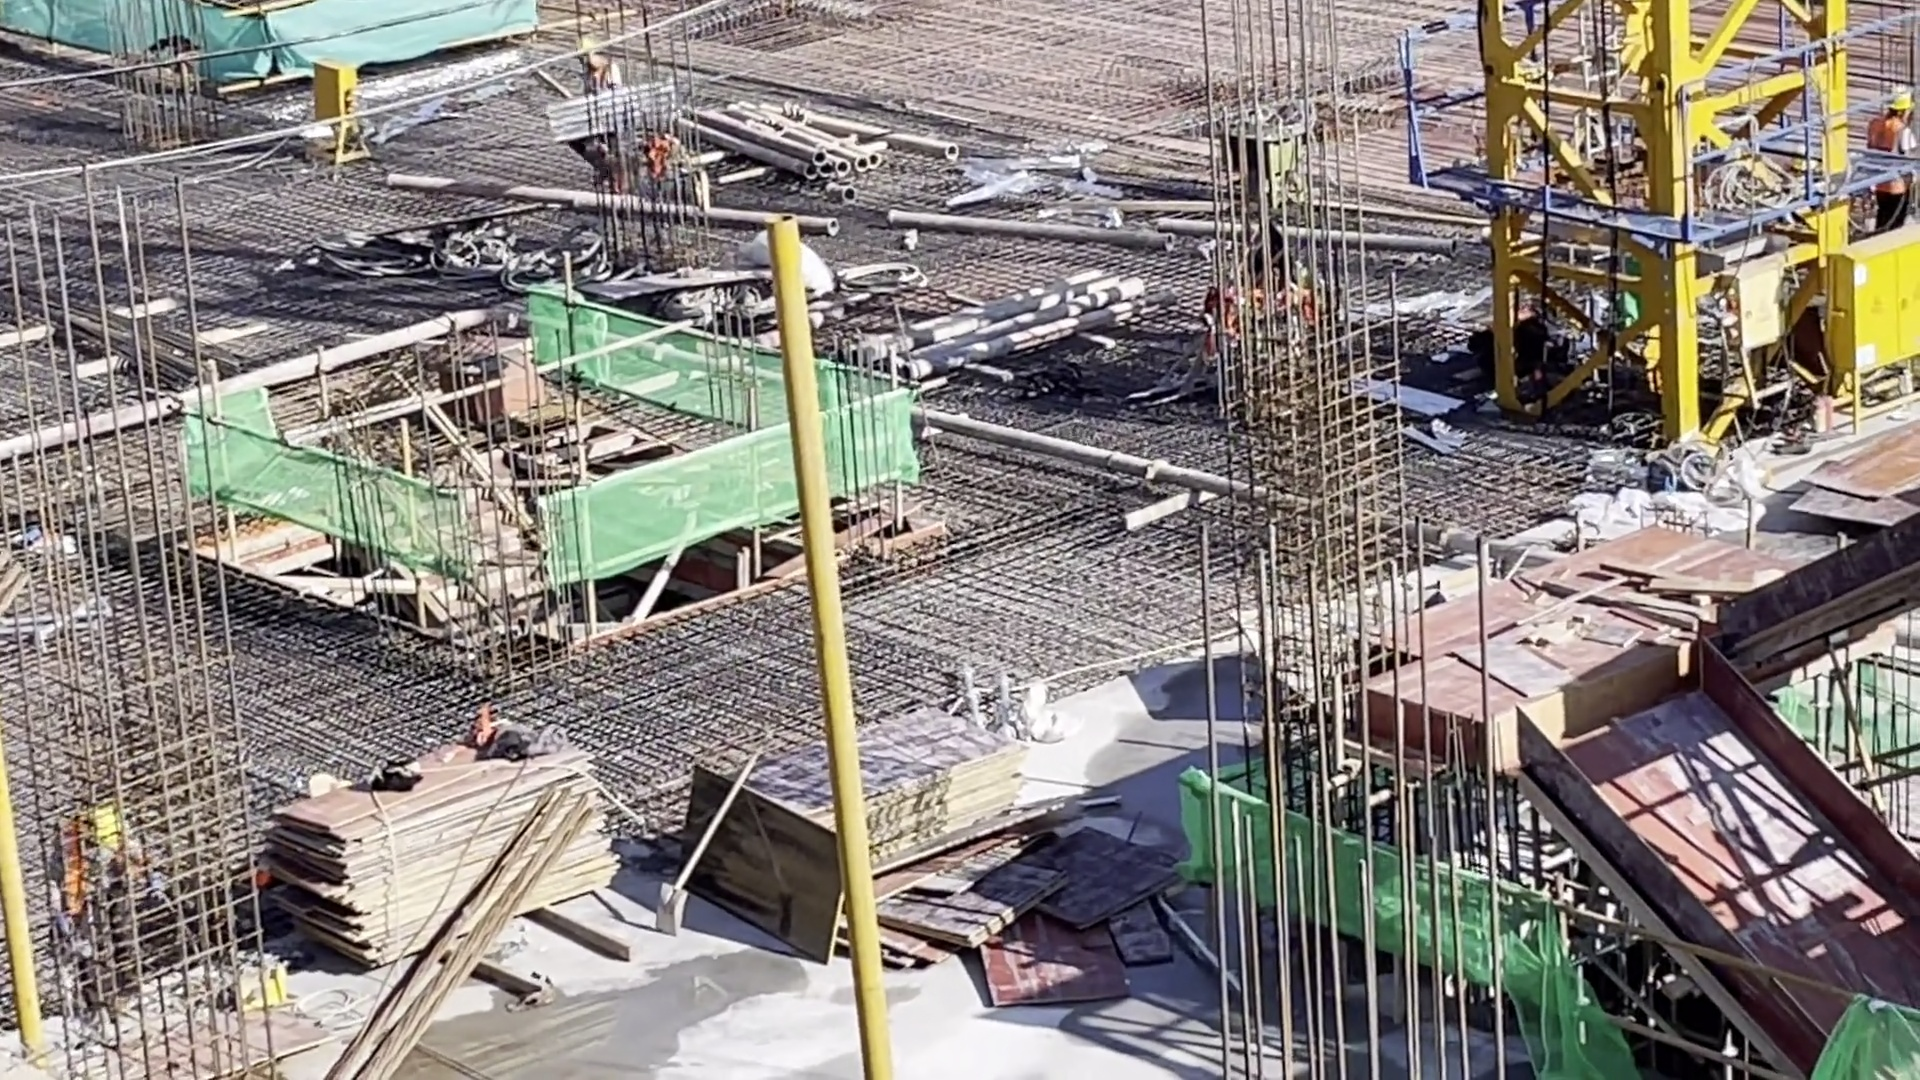board: (694, 713, 1101, 1009), (309, 731, 651, 963)
ebox: (1824, 198, 1920, 372), (306, 54, 375, 171)
helmet: (85, 801, 129, 853), (1878, 82, 1920, 117), (571, 31, 602, 67)
person: (43, 803, 158, 965), (568, 27, 642, 207), (1865, 73, 1920, 226)
scaffold: (701, 77, 960, 182)
